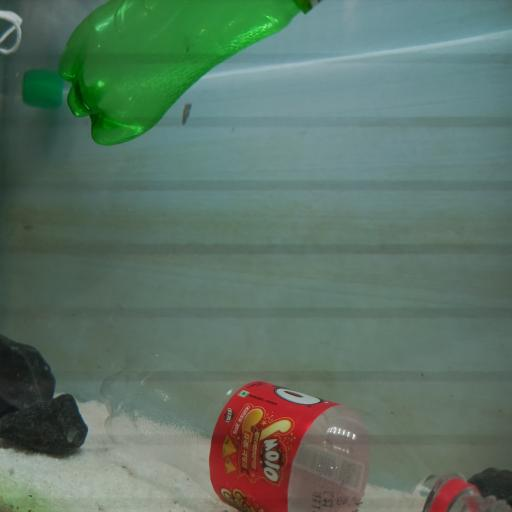bottle_cap: (22, 71, 64, 113)
plastic_bottle: (100, 348, 489, 512), (54, 2, 320, 147)
